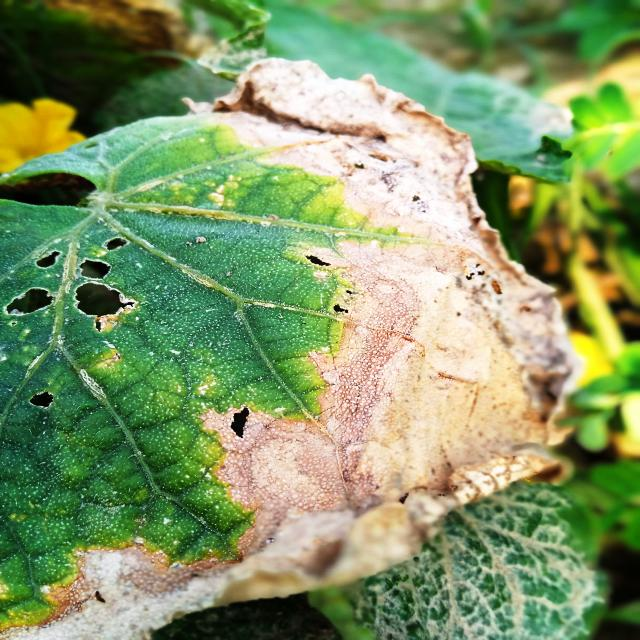Gummy-Stem-Blight: (2, 59, 589, 640)
